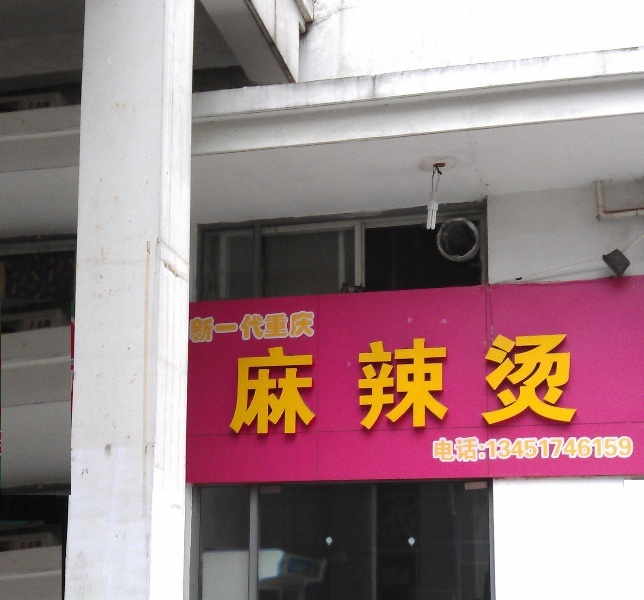text: (241, 329, 256, 440), (257, 329, 272, 440), (273, 329, 288, 440), (289, 329, 304, 440), (305, 329, 320, 440), (321, 329, 336, 440), (337, 329, 352, 440), (353, 329, 368, 440), (369, 329, 384, 440), (385, 329, 400, 440), (401, 329, 416, 440), (417, 329, 432, 440), (433, 329, 448, 440), (449, 329, 464, 440), (465, 329, 480, 440), (481, 329, 496, 440), (497, 329, 512, 440), (513, 329, 528, 440), (529, 329, 544, 440), (545, 329, 560, 440), (561, 329, 576, 440), (229, 329, 240, 440), (193, 308, 208, 345), (209, 308, 224, 345), (225, 308, 240, 345), (241, 308, 256, 345), (257, 308, 272, 345), (273, 308, 288, 345), (289, 308, 304, 345), (433, 432, 448, 464), (449, 432, 464, 464), (465, 432, 480, 464), (481, 432, 496, 464), (497, 432, 512, 464), (513, 432, 528, 464), (529, 432, 544, 464), (545, 432, 560, 464), (561, 432, 576, 464), (577, 432, 592, 464), (593, 432, 608, 464), (609, 432, 624, 464), (305, 308, 317, 345), (625, 432, 636, 464), (577, 329, 579, 440), (188, 308, 192, 345), (430, 432, 432, 464)
